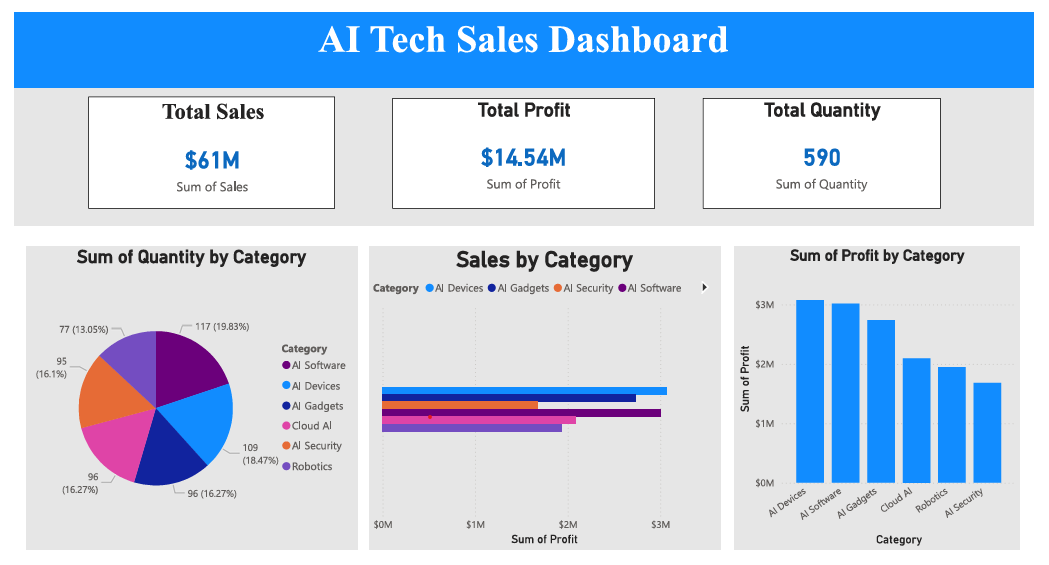

What the dashboard file says about the page in this screenshot:
{"tool":"powerbi","page":{"name":"Page 1","canvas":[1280,720],"ordinal":0},"visuals":[{"type":"textbox","box":[0,0,1280,95.1],"z":0},{"type":"card","fields":{"Values":["Sum(AI_Tech_Sales_2025_Updated.Sales)"]},"box":[126.2,106.5,234.4,149.1],"z":1000},{"type":"textbox","box":[0,95.1,1280,172.1],"z":2000},{"type":"card","title":"Total Sales","fields":{"Values":["Sum(AI_Tech_Sales_2025_Updated.Sales)"]},"box":[93.4,104.9,309.8,140.9],"z":3000},{"type":"card","title":"Total Profit ","fields":{"Values":["Sum(AI_Tech_Sales_2025_Updated.Profit)"]},"box":[475.3,106.5,329.4,139.3],"z":4000},{"type":"card","title":"Total Quantity","fields":{"Values":["Sum(AI_Tech_Sales_2025_Updated.Quantity)"]},"box":[865.4,106.5,298.3,139.3],"z":5000},{"type":"clusteredBarChart","title":"Sales by Category","fields":{"Series":["AI_Tech_Sales_2025_Updated.Category"],"Y":["Sum(AI_Tech_Sales_2025_Updated.Profit)"]},"box":[445.8,293.4,440.9,380.2],"z":6000},{"type":"clusteredColumnChart","fields":{"Category":["AI_Tech_Sales_2025_Updated.Category"],"Y":["Sum(AI_Tech_Sales_2025_Updated.Profit)"]},"box":[904.7,293.4,358.9,380.2],"z":7000},{"type":"pieChart","fields":{"Category":["AI_Tech_Sales_2025_Updated.Category"],"Y":["Sum(AI_Tech_Sales_2025_Updated.Quantity)"]},"box":[14.8,293.4,416.3,380.2],"z":8000}]}

Visuals, with their boxes on the page's 1280x720 design canvas (x1, y1, x2, y2). These are canvas units, not pixel positions in the 1049x565 screenshot, which may show the page scaled, cropped or inside an application window:
textbox: select_region(0, 0, 1280, 95)
card - Sum(AI_Tech_Sales_2025_Updated.Sales): select_region(126, 106, 361, 256)
textbox: select_region(0, 95, 1280, 267)
"Total Sales" card: select_region(93, 105, 403, 246)
"Total Profit " card: select_region(475, 106, 805, 246)
"Total Quantity" card: select_region(865, 106, 1164, 246)
"Sales by Category" clusteredBarChart: select_region(446, 293, 887, 674)
clusteredColumnChart - AI_Tech_Sales_2025_Updated.Category x Sum(AI_Tech_Sales_2025_Updated.Profit): select_region(905, 293, 1264, 674)
pieChart - AI_Tech_Sales_2025_Updated.Category x Sum(AI_Tech_Sales_2025_Updated.Quantity): select_region(15, 293, 431, 674)
